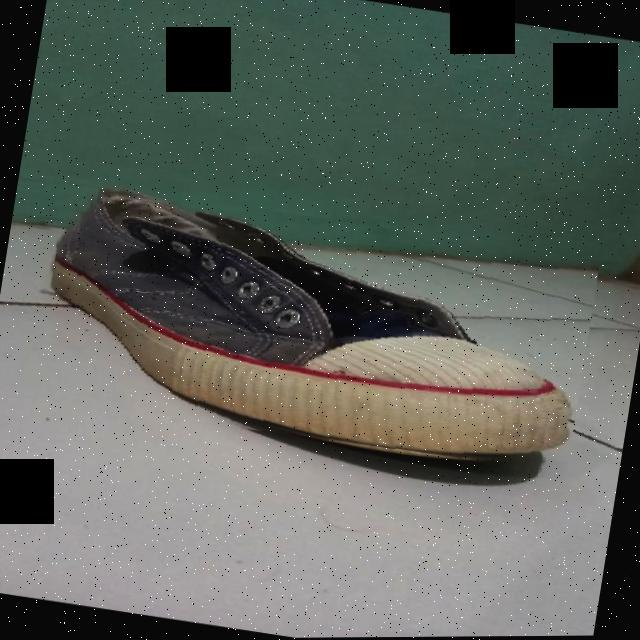shoe: (26, 176, 600, 484)
